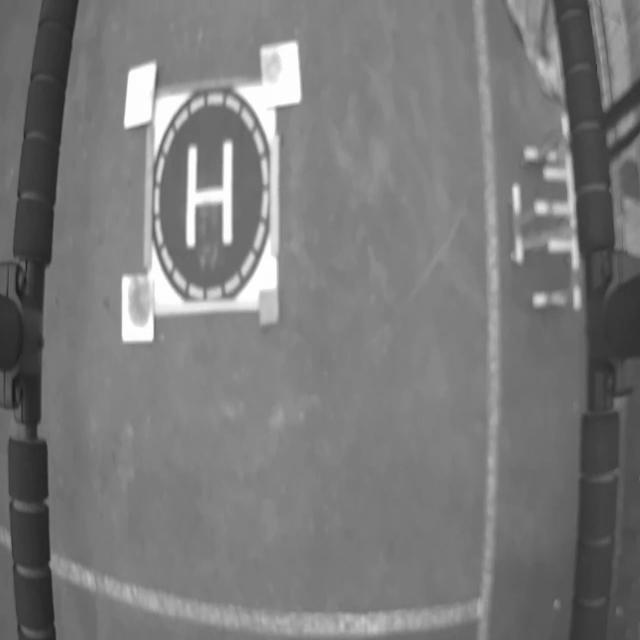Helipad: (185, 142, 234, 250)
